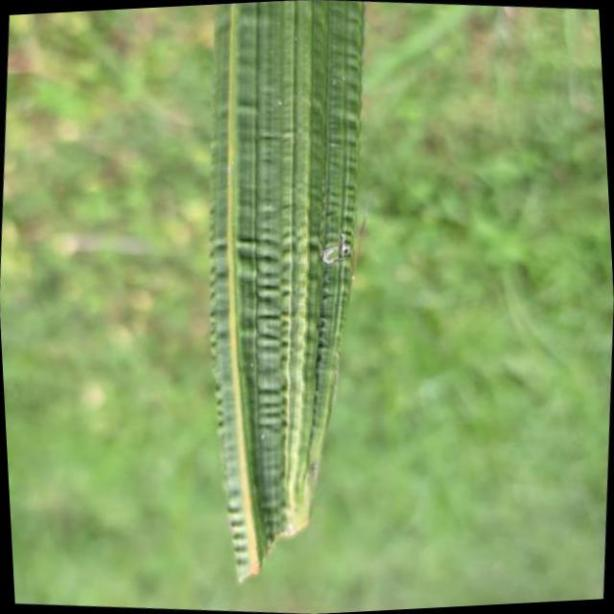Boron: (204, 7, 359, 588)
